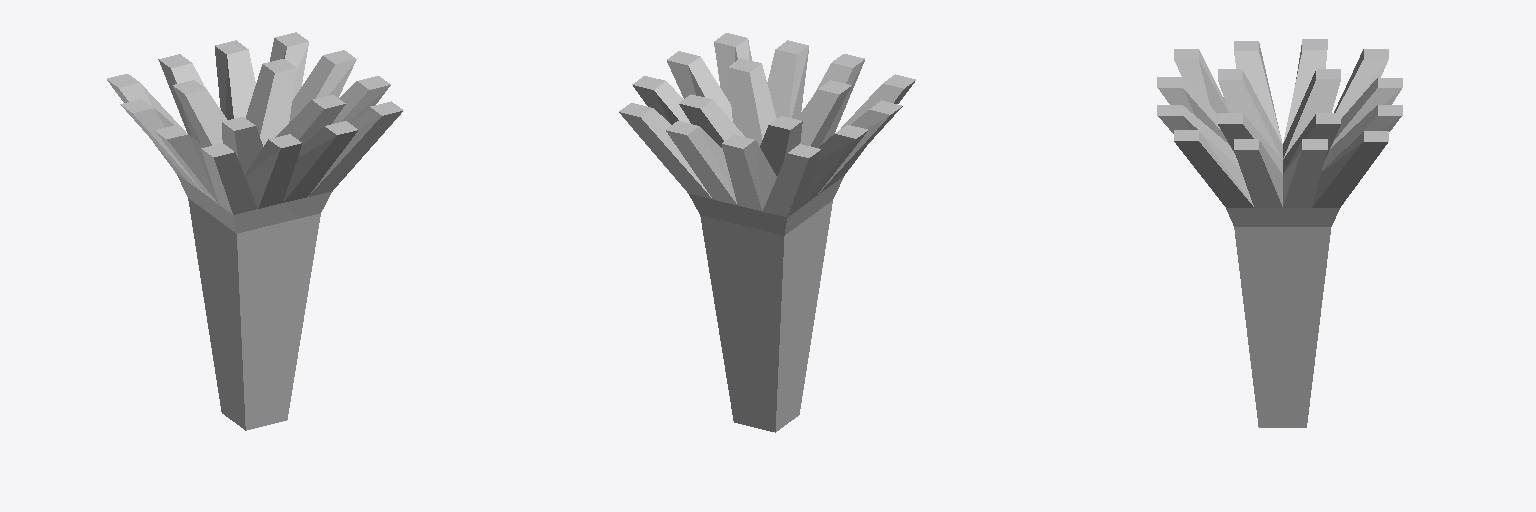
The model's file is Plant 1.1.obj.
3 renders of one model, left to right at view 1: azimuth 30°, elevation 25°; view 2: azimuth 150°, elevation 25°; view 3: azimuth 270°, elevation 25°, orthographic.
Parts seen in each view (by area): view 1: Cube_Cube.001; view 2: Cube_Cube.001; view 3: Cube_Cube.001.
Boxes of the visible parts, box(x1,y1,x2,y2) form: Cube_Cube.001: box(107, 32, 403, 430); Cube_Cube.001: box(619, 33, 915, 432); Cube_Cube.001: box(1157, 39, 1402, 427).
Size of the model in its own units: 3.62 by 4.99 by 3.43.